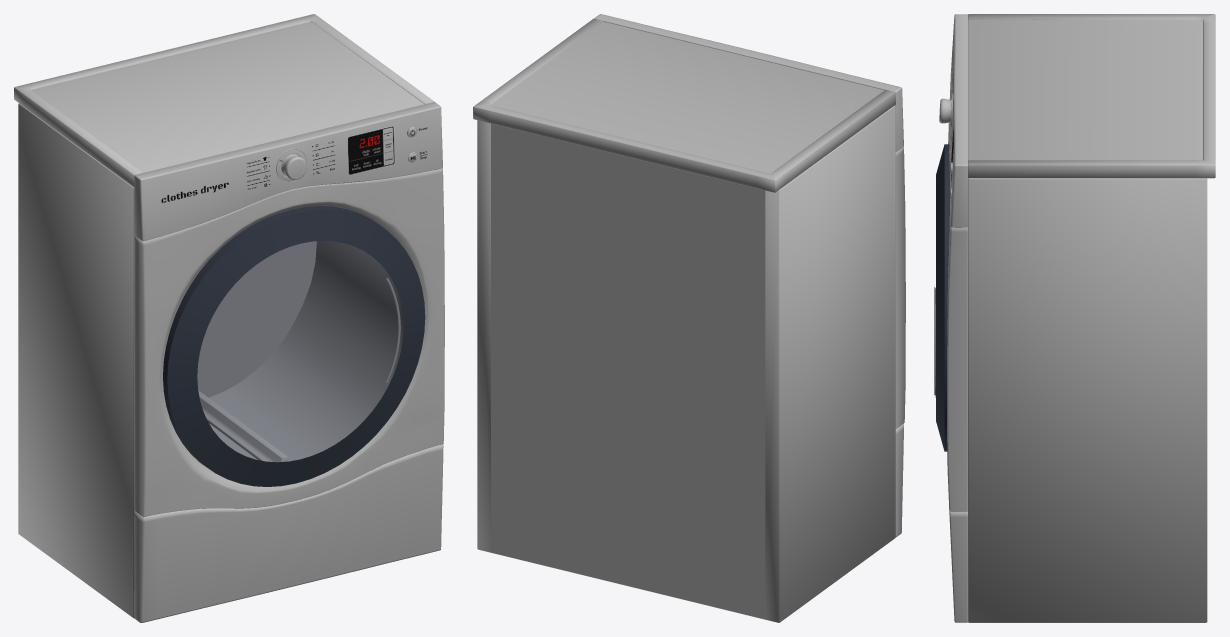
The model's file is visual_LowPoly_18_ClothesDryer.dae.
3 renders of one model, left to right at view 1: azimuth 30°, elevation 25°; view 2: azimuth 150°, elevation 25°; view 3: azimuth 270°, elevation 25°, orthographic. The views are drawn at different scales.
Parts seen in each view (by area): view 1: SM_clothes_dryer; view 2: SM_clothes_dryer; view 3: SM_clothes_dryer.
Part boxes in pixels (x1,y1,x2,y2): SM_clothes_dryer: (14, 14, 444, 622); SM_clothes_dryer: (473, 14, 905, 622); SM_clothes_dryer: (934, 14, 1215, 622).
Bounding box in the file's own units: 60.24 × 47.31 × 84.93.
Materials: 2 (2 with a texture image).
